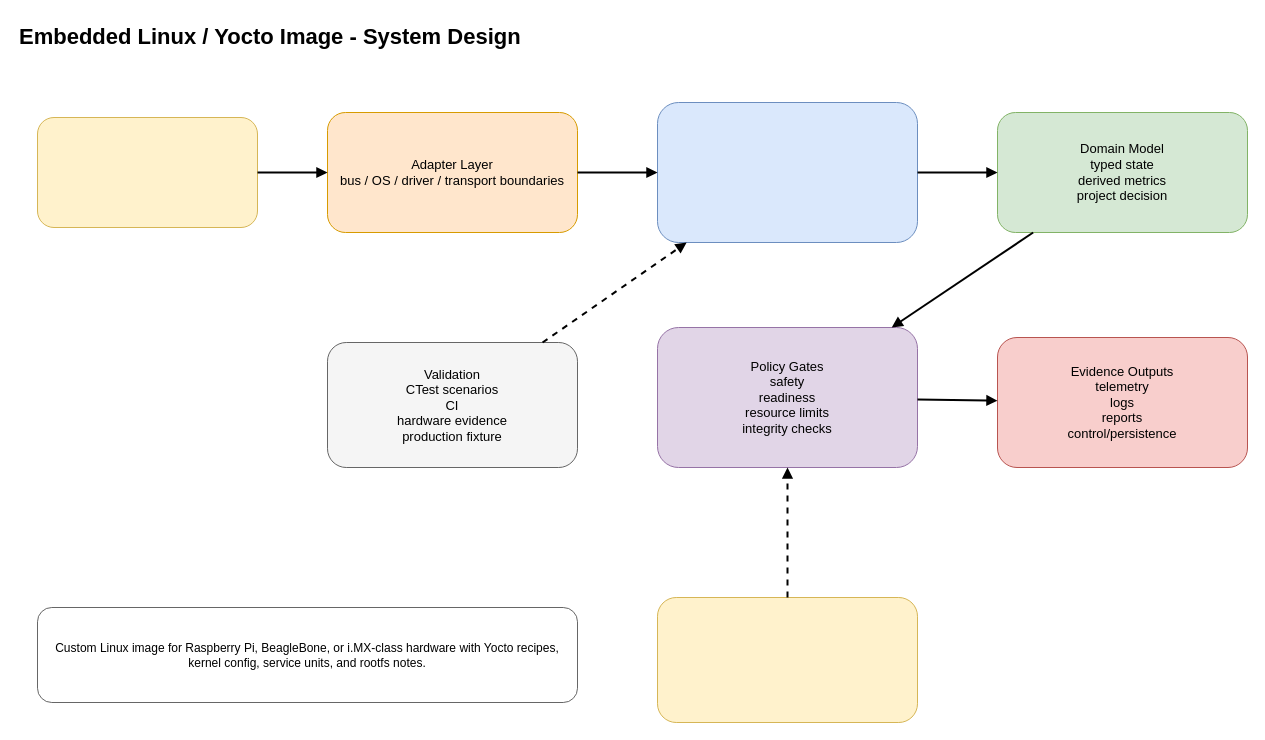
Some shapes in this 1265 by 740 pixel diagram are drawn without their labels. The centre of each missing label's shape, as x and y in pixels:
"Input Sources hardware, simulator, commands" goes at point (147, 172).
"Roadmap design package host runtime target adapters hardware evidence" goes at point (787, 659).
"Runtime Orchestrator C++17 facade dependency injection deterministic cycle" goes at point (787, 172).
